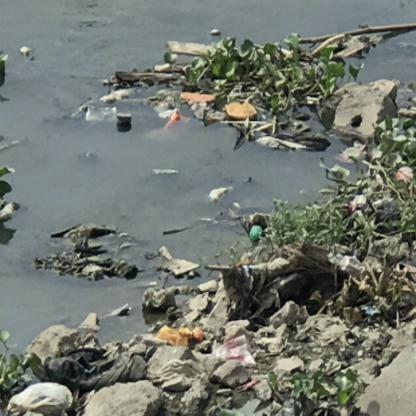Plastic: (247, 221, 264, 240)
Trash: (161, 323, 207, 354), (223, 100, 256, 120), (182, 88, 211, 108), (115, 107, 134, 132)
